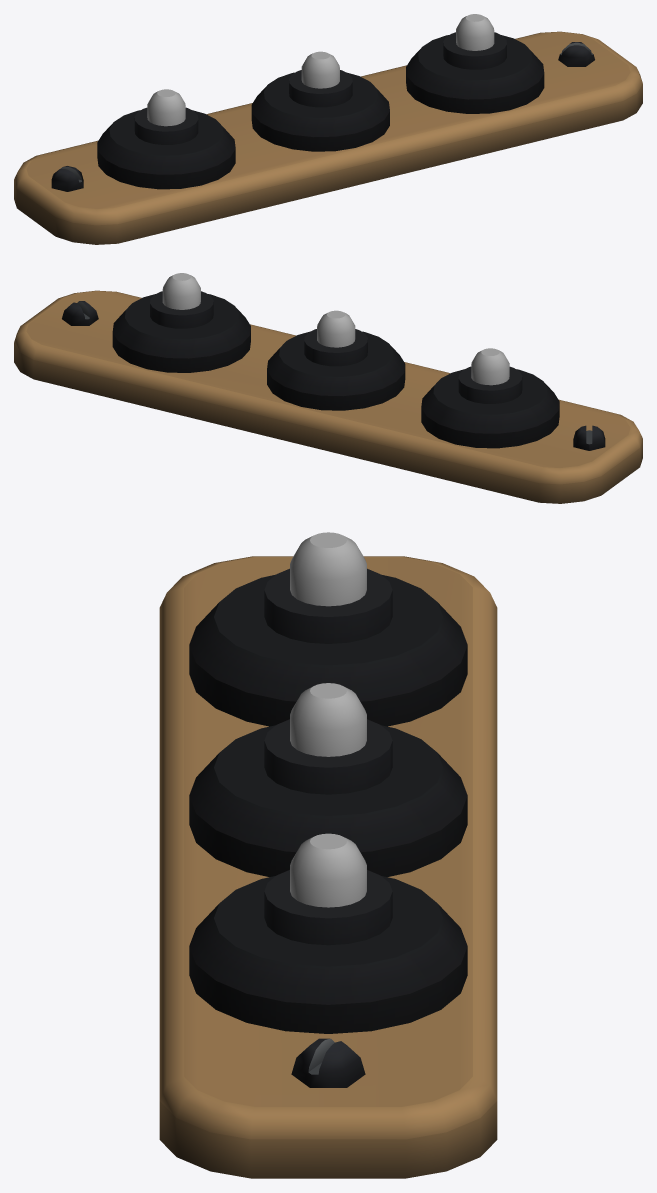
File: GreenRed_LIght.fbx
3 renders of one model, top to bottom at view 1: azimuth 30°, elevation 25°; view 2: azimuth 150°, elevation 25°; view 3: azimuth 270°, elevation 25°, orthographic. The views are drawn at different scales.
Parts seen in each view (by area): view 1: polySurface62; view 2: polySurface62; view 3: polySurface62.
Part boxes in pixels (<box>): polySurface62: <box>14,14,642,244</box>; polySurface62: <box>14,273,642,503</box>; polySurface62: <box>159,532,497,1178</box>.
Bounding box in the file's own units: 20 × 3.19 × 5.
Materials: 2 (1 with a texture image).
